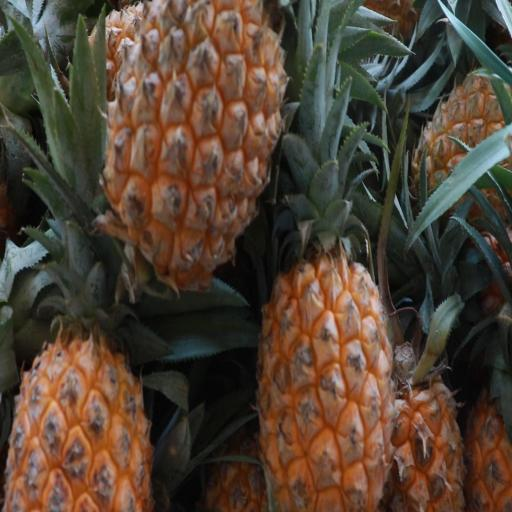Pineapple - v8 v1: (95, 0, 292, 293), (252, 151, 398, 512), (0, 275, 157, 512), (374, 313, 471, 512), (453, 187, 512, 512)
